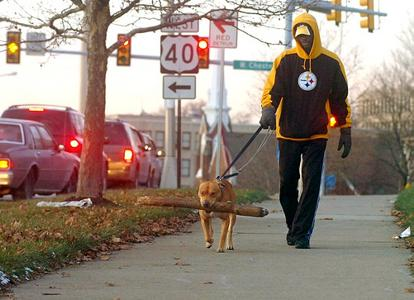person: (261, 12, 352, 247)
